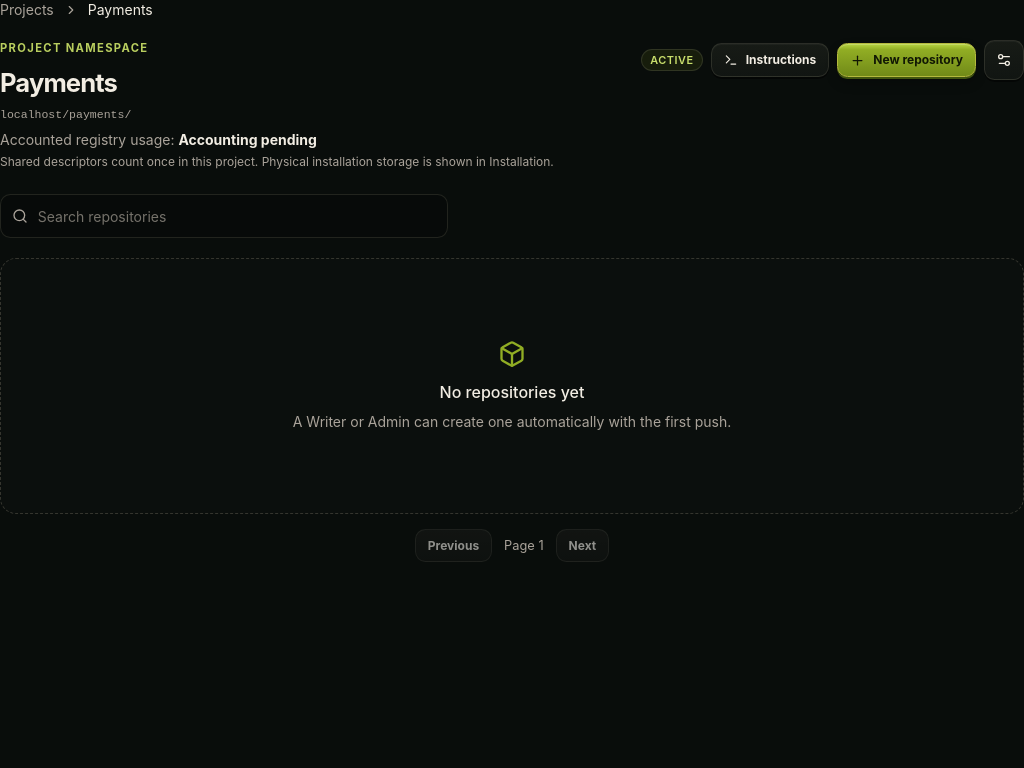
Test case: ProjectPage membership management › manages existing members and surfaces removal errors
The image size is (1024, 768).
Click the button named "Project settings" at [1004, 60], box [984, 40, 1023, 80]
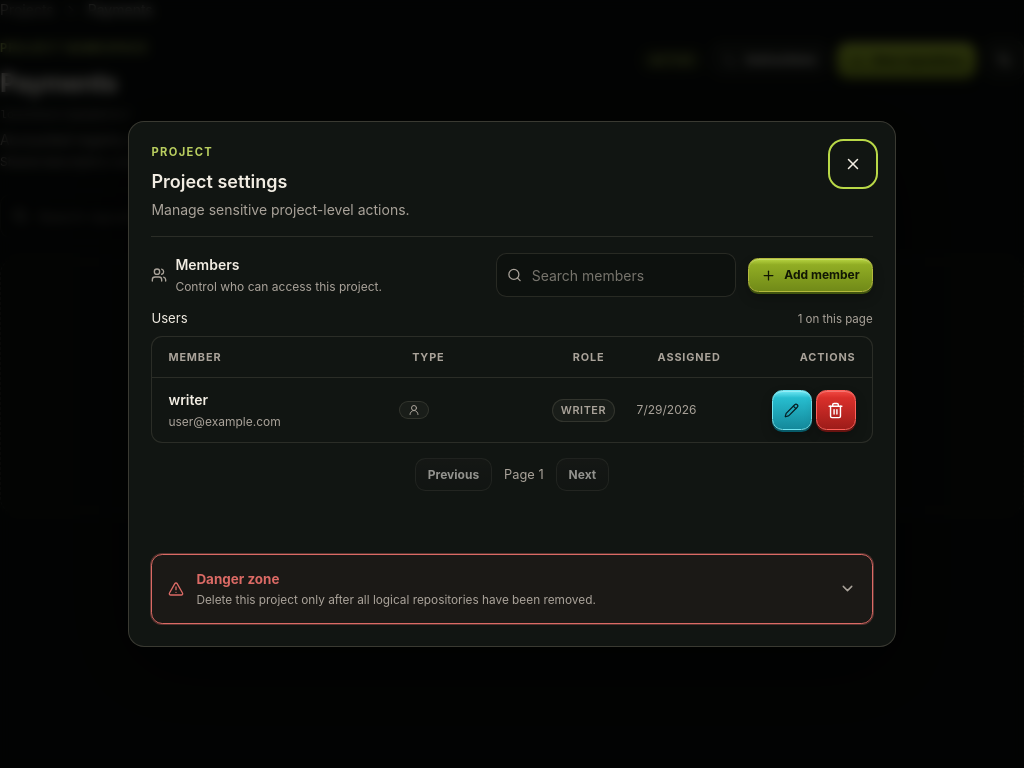
Click the button named "Change role for writer" at [792, 410], box [772, 390, 812, 430]
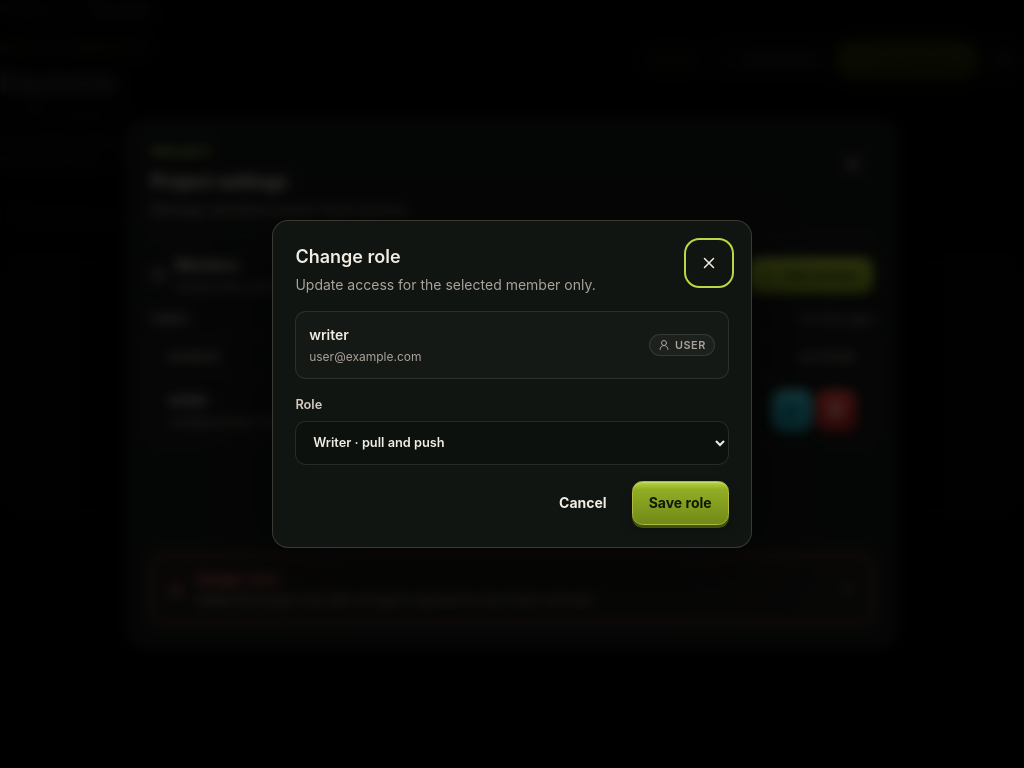
expect the text "writer" is shown: met, box [309, 326, 349, 343]
Select "Admin · manage project" in the dropdown labelled "Role" at [512, 443], box [295, 421, 729, 465]
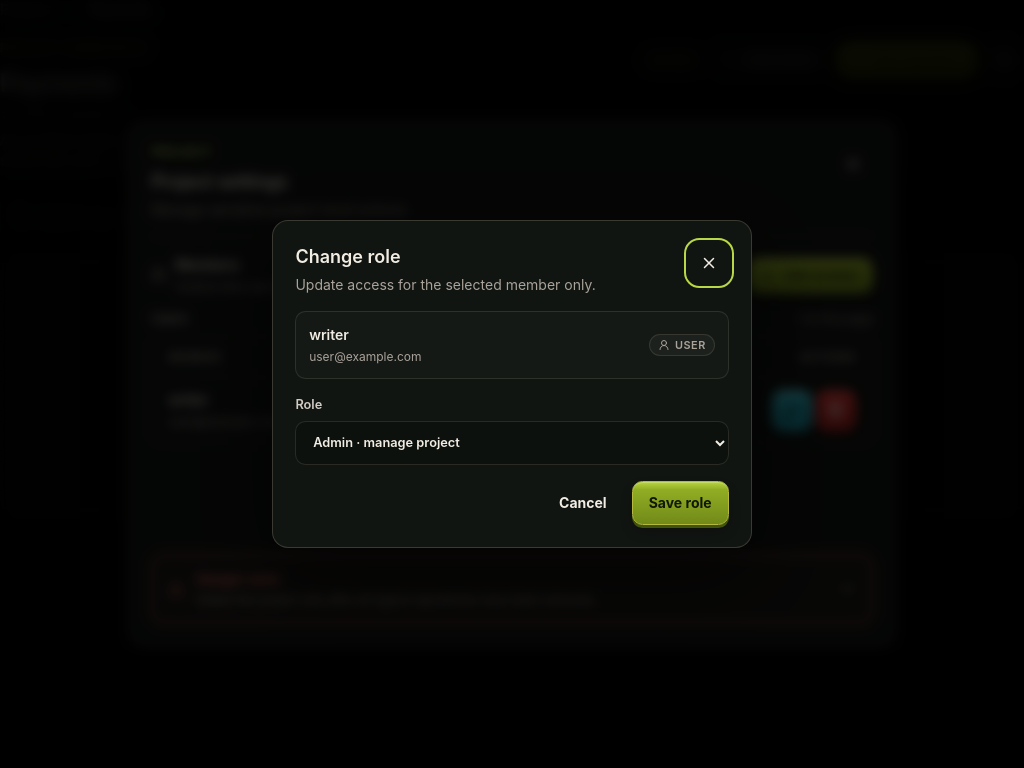
Submit the form named "Save role", box [272, 220, 752, 548]
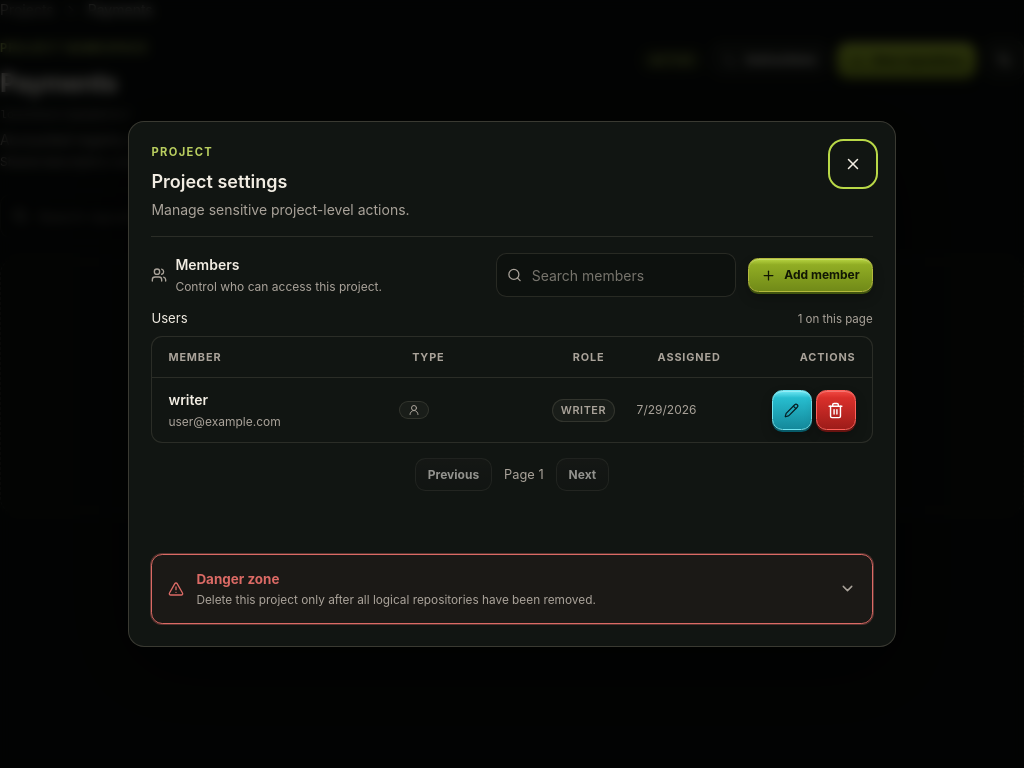
expect the heading "Change role" is gone: met
Click the button named "Remove user member" at [836, 410], box [816, 390, 856, 430]
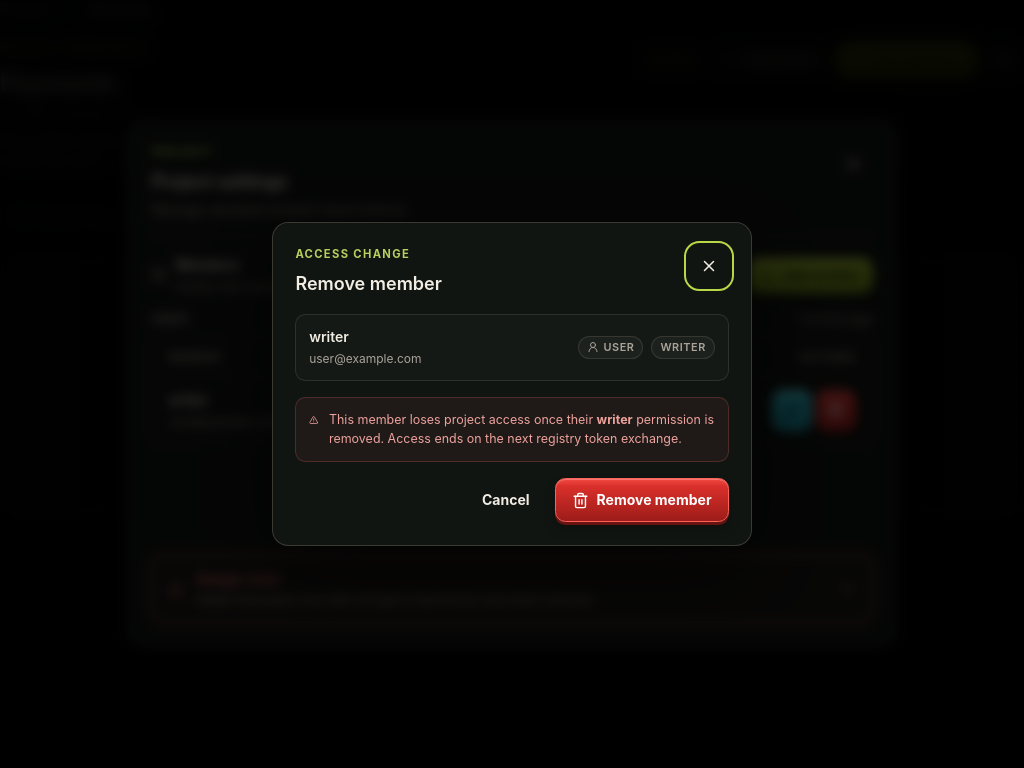
expect the dialog "Remove member" shows "loses project access": met, box [329, 412, 597, 427]
Submit the form "Remove member", box [272, 222, 752, 546]
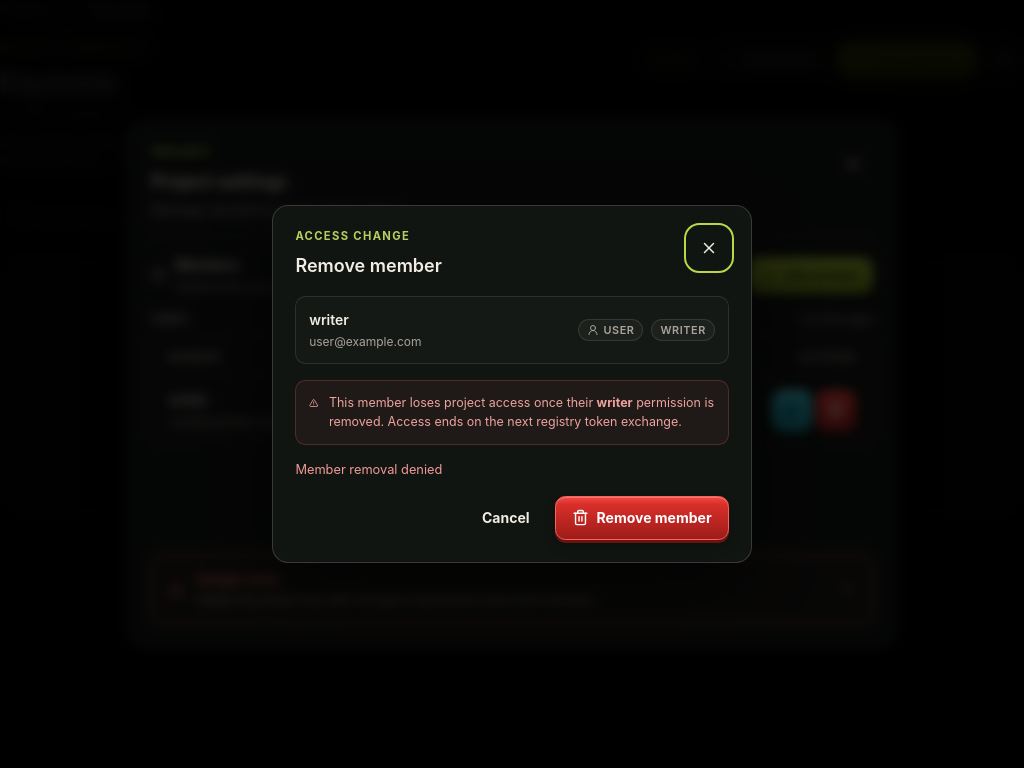
expect the text "Member removal denied" is shown: met, box [295, 462, 442, 477]
